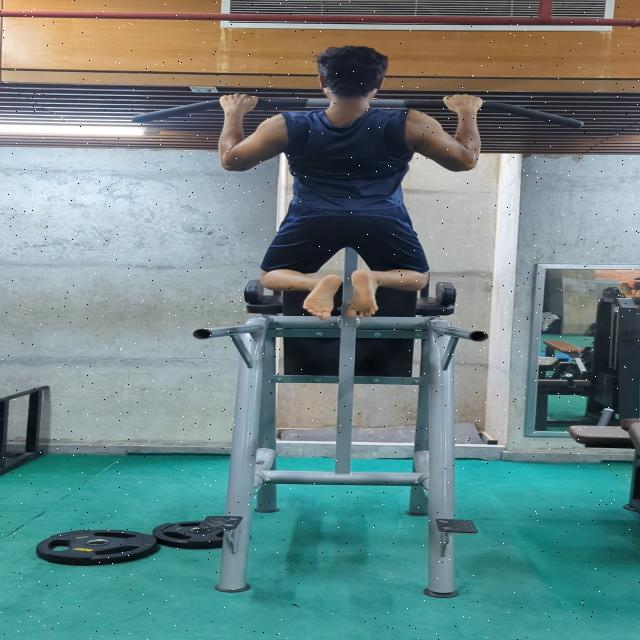Normal_PullUps: (209, 37, 487, 322)
